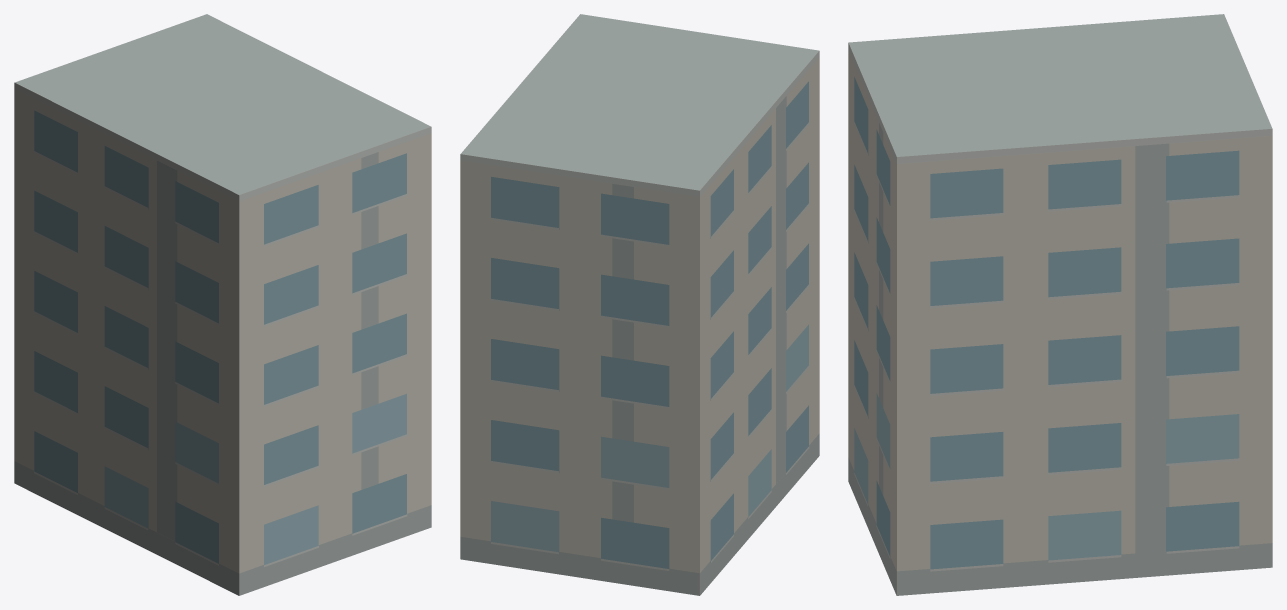
File: residential-73d037af-d257-42d2-afc5-1dfe155790ec.glb
The picture shows the model from 3 angles, left to right: view 1: azimuth 30°, elevation 25°; view 2: azimuth 150°, elevation 25°; view 3: azimuth 270°, elevation 25°; orthographic projection. The views are drawn at different scales.
Parts seen in each view (by area): view 1: residential-73d037af-d257-42d2-afc5-1dfe155790ec.tmp; view 2: residential-73d037af-d257-42d2-afc5-1dfe155790ec.tmp; view 3: residential-73d037af-d257-42d2-afc5-1dfe155790ec.tmp.
Boxes of the visible parts, <box> form: residential-73d037af-d257-42d2-afc5-1dfe155790ec.tmp: <box>14,14,431,595</box>; residential-73d037af-d257-42d2-afc5-1dfe155790ec.tmp: <box>460,14,819,595</box>; residential-73d037af-d257-42d2-afc5-1dfe155790ec.tmp: <box>848,14,1272,595</box>.
Size of the model in its own units: 10.67 by 15.25 by 13.37.
